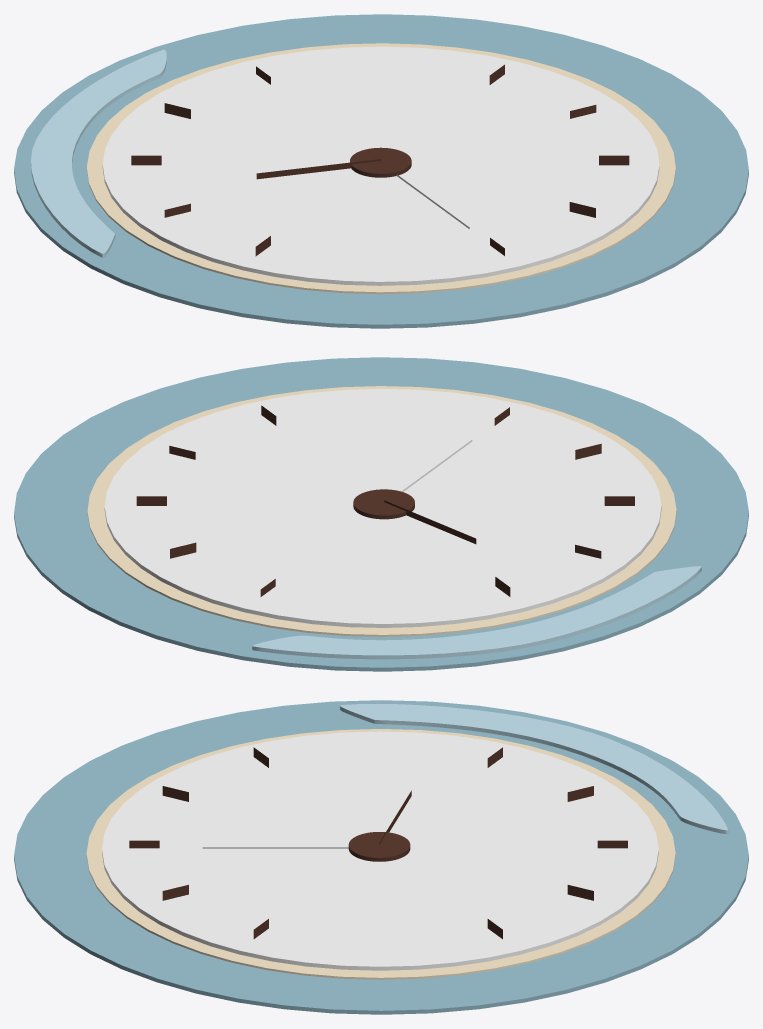
File: emoji_u1f564.glb
3 views of the same model, one above another, from view 1: azimuth 30°, elevation 25°; view 2: azimuth 150°, elevation 25°; view 3: azimuth 270°, elevation 25° (orthographic).
Parts seen in each view (by area): view 1: emoji_u1f564; view 2: emoji_u1f564; view 3: emoji_u1f564.
Part boxes in pixels (box(x1,y1,x2,y2)): emoji_u1f564: box(14, 14, 748, 328); emoji_u1f564: box(14, 357, 748, 671); emoji_u1f564: box(14, 700, 748, 1014).
Size of the model in its own units: 0.0339 by 0.0018 by 0.0339.
